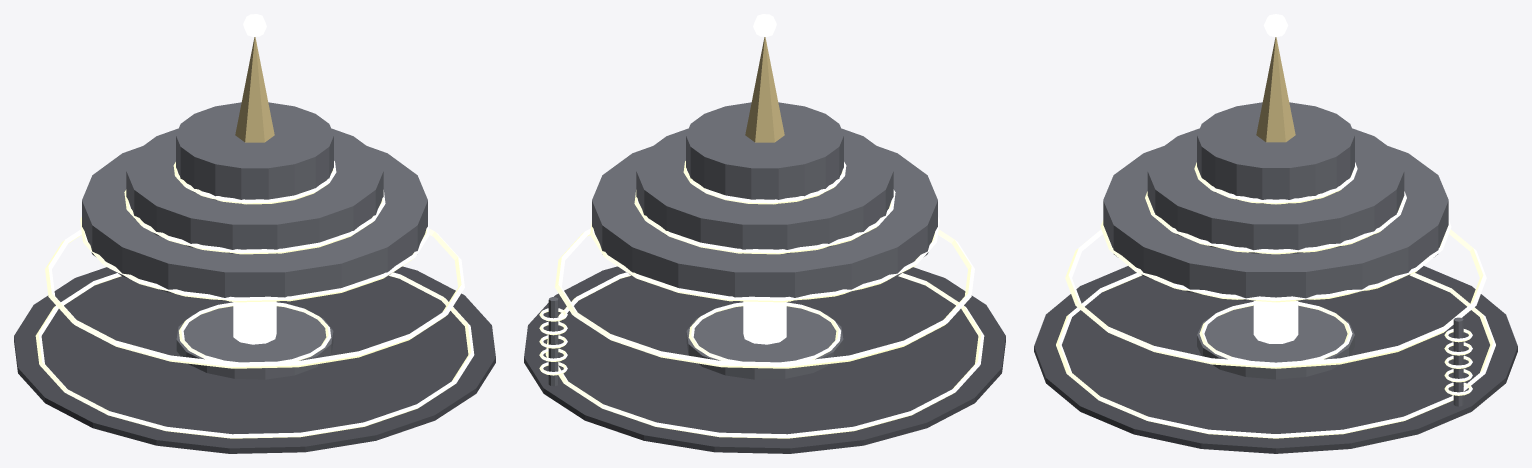
Rendered from zone_low_2_t5.glb.
3 views of the same model, side by side, from view 1: azimuth 30°, elevation 25°; view 2: azimuth 150°, elevation 25°; view 3: azimuth 270°, elevation 25° (orthographic).
Visible parts, largest first — view 1: zone_low_2_t5, detail; view 2: zone_low_2_t5, detail; view 3: zone_low_2_t5, detail.
Boxes of the visible parts, <box> form: zone_low_2_t5: <box>14,37,495,453</box>; detail: <box>35,14,474,438</box>; zone_low_2_t5: <box>524,37,1005,453</box>; detail: <box>539,14,984,438</box>; zone_low_2_t5: <box>1034,37,1517,453</box>; detail: <box>1056,14,1495,438</box>.
Bounding box in the file's own units: 19.6 × 15.08 × 19.6.
